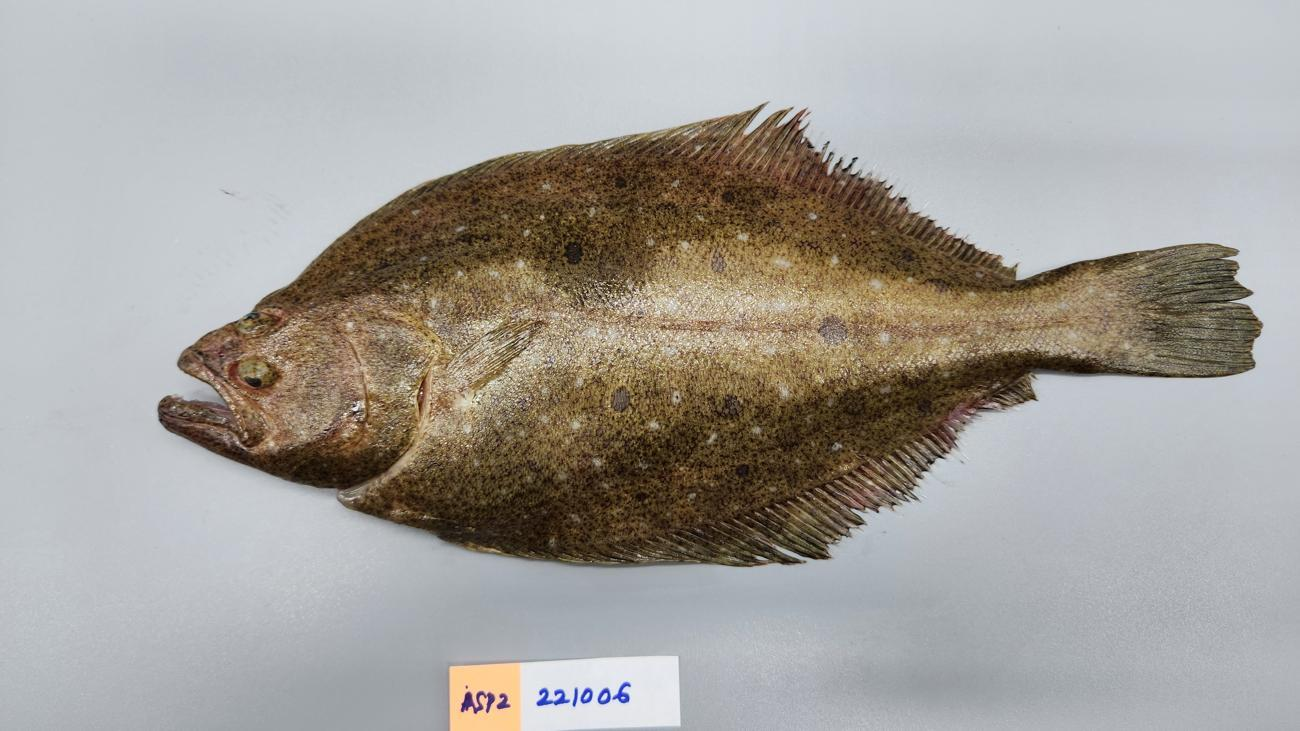SPDYH: (649, 308, 1086, 337)
SPOUY: (152, 97, 1266, 577)
